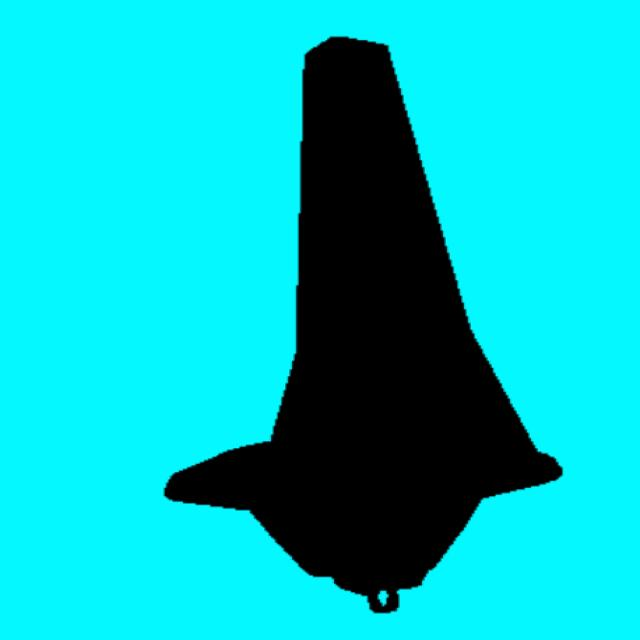BlackBuoy: (165, 38, 561, 612)
